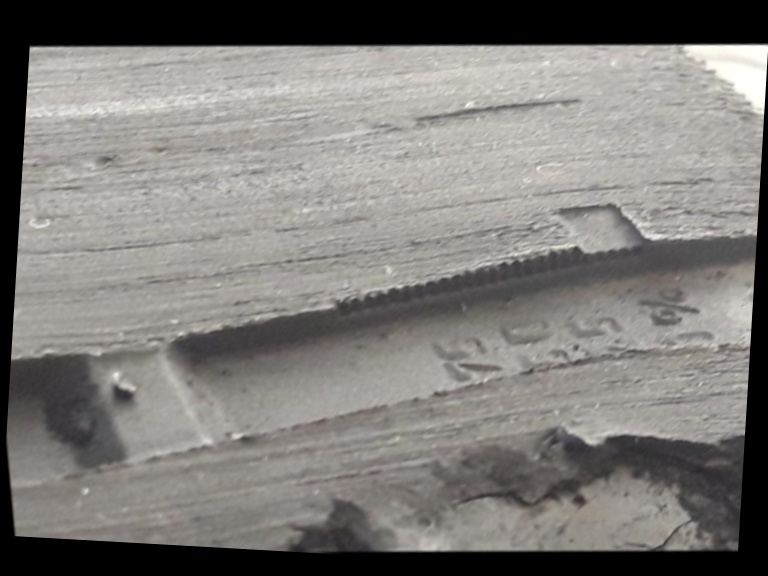temoin:0: (528, 180, 675, 302)
